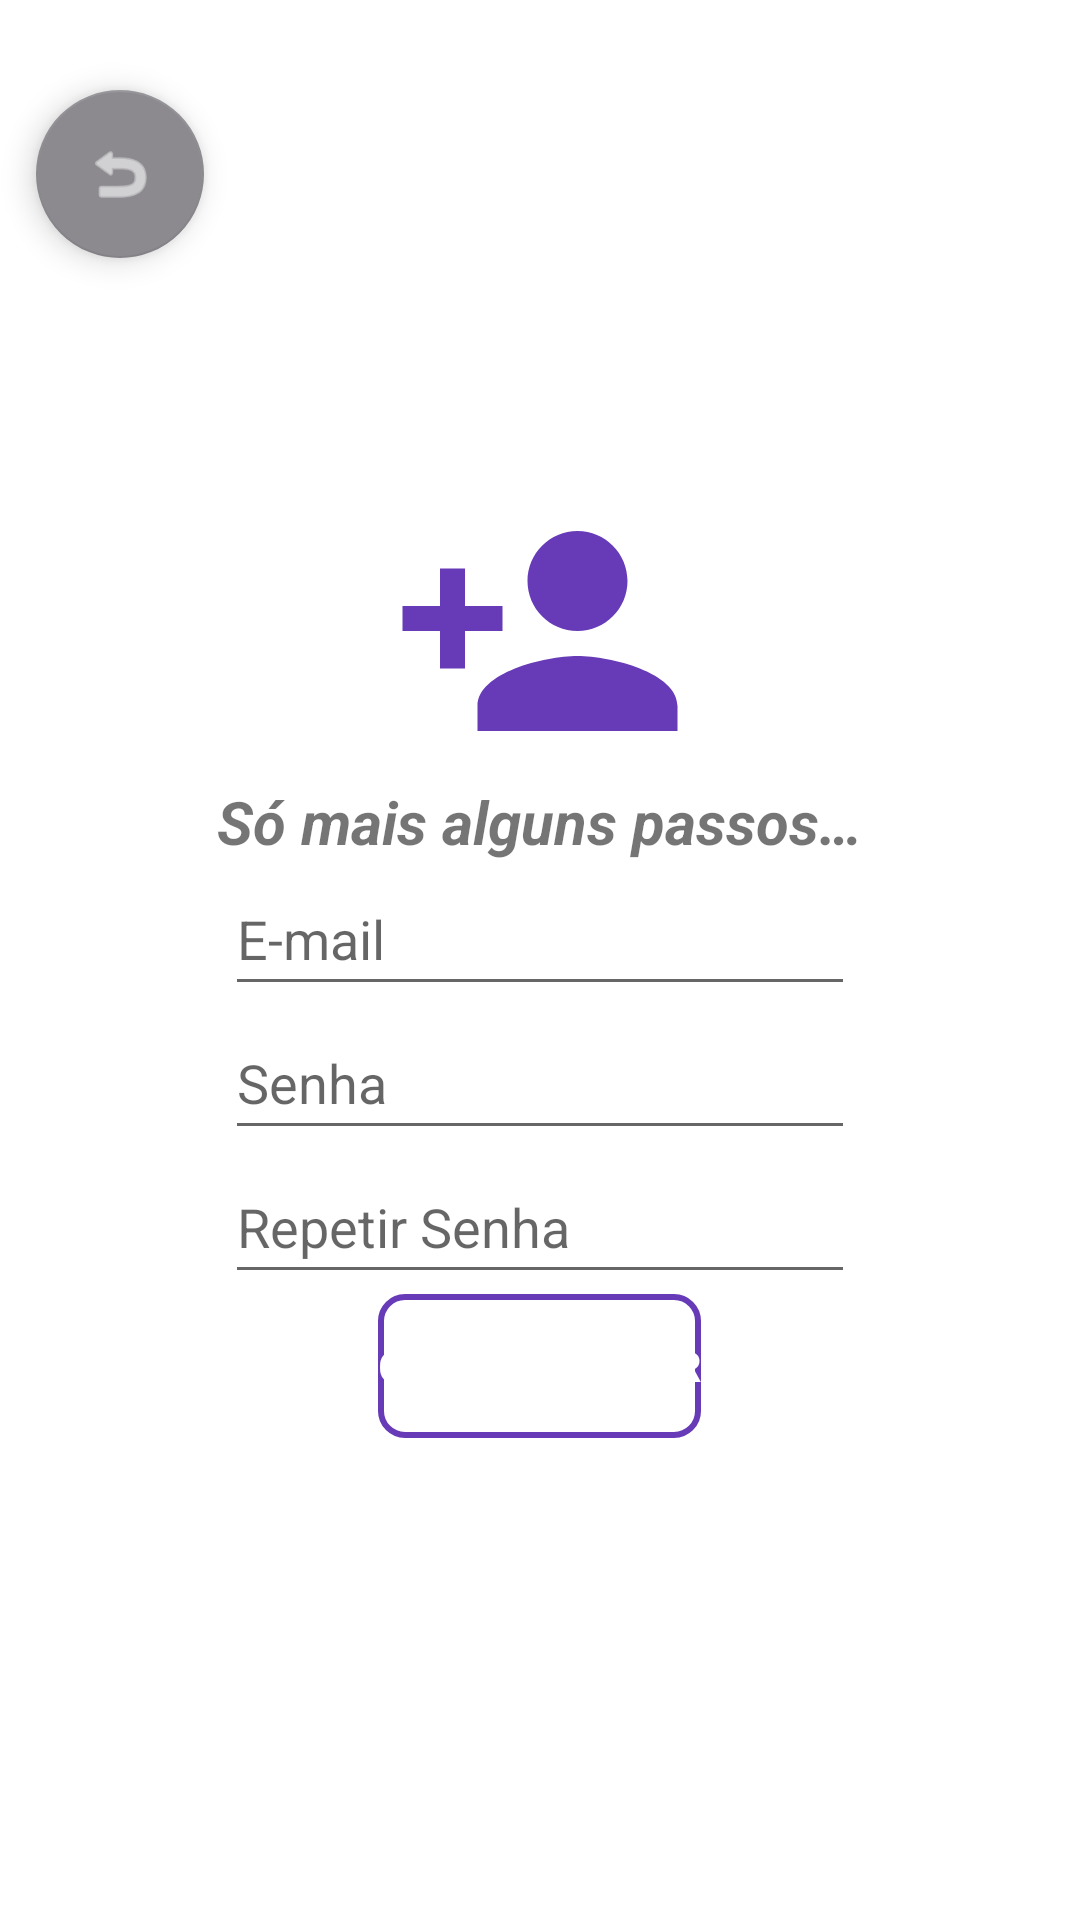

Screen size 1080w x 1920h. Icon name, then its box in pixels as (left=x1, top=y1, right=x2, bottom=y2):
Back: (left=33, top=90, right=204, bottom=260)
person add: (left=402, top=531, right=678, bottom=731)
